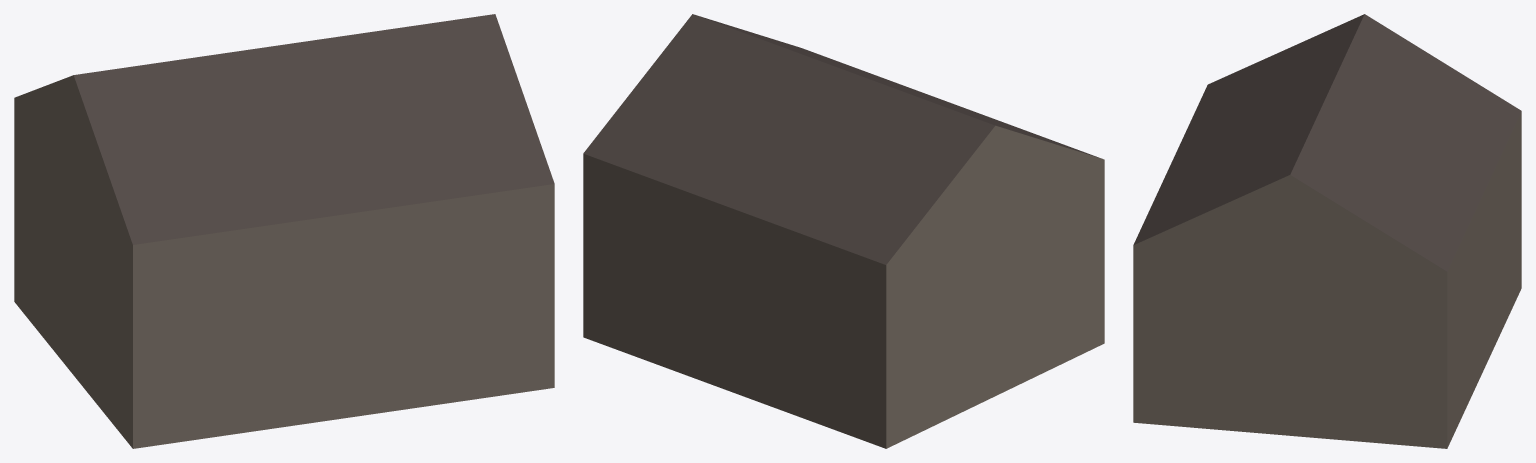
The picture shows the model from 3 angles, left to right: view 1: azimuth 30°, elevation 25°; view 2: azimuth 150°, elevation 25°; view 3: azimuth 270°, elevation 25°; orthographic projection. The views are drawn at different scales.
Parts seen in each view (by area): view 1: HP-w859082531; view 2: HP-w859082531; view 3: HP-w859082531.
Boxes of the visible parts, x1,y1,x2,y2 form: HP-w859082531: (14, 14, 554, 448); HP-w859082531: (583, 14, 1104, 448); HP-w859082531: (1133, 14, 1521, 448).
Size of the model in its own units: 20.36 by 13.25 by 17.87.
